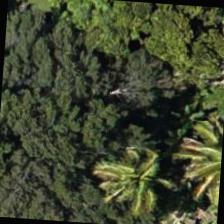Kelapa_Sawit: (100, 133, 198, 223)
